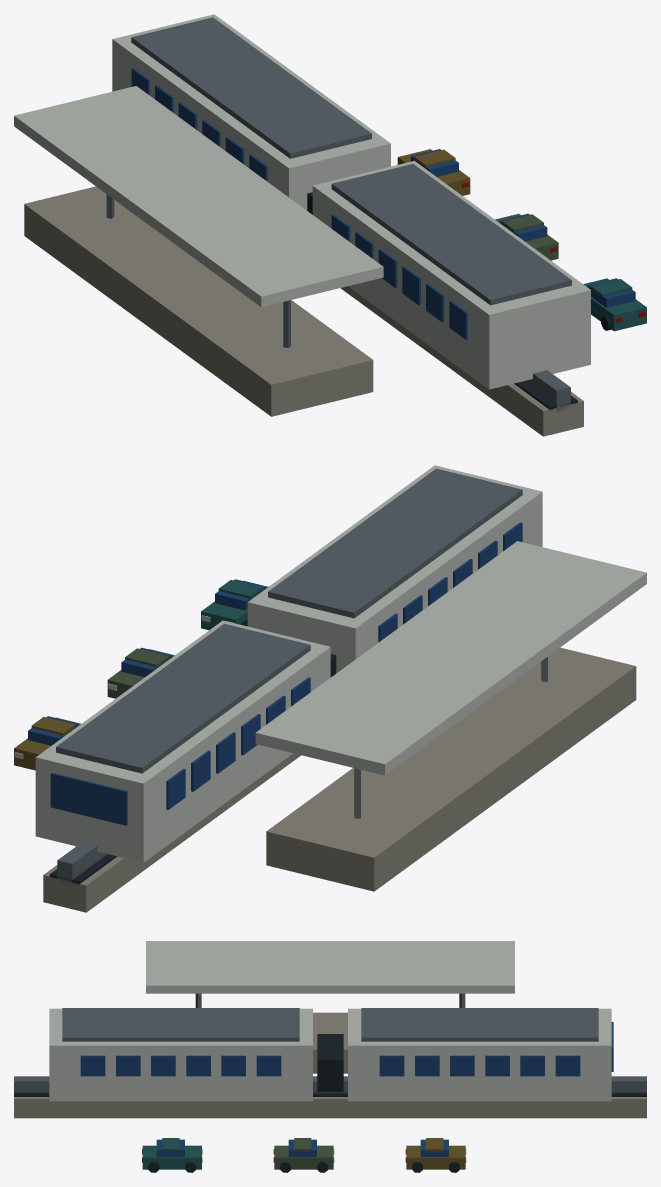
Rendered from maglevtrain2.glb.
3 views of the same model, one above another, from view 1: azimuth 30°, elevation 25°; view 2: azimuth 150°, elevation 25°; view 3: azimuth 270°, elevation 25° (orthographic). The views are drawn at different scales.
Parts seen in each view (by area): view 1: maglevtrain2; view 2: maglevtrain2; view 3: maglevtrain2.
Part boxes in pixels (left/top/right/bottom): maglevtrain2: left=14, top=14, right=646, bottom=436; maglevtrain2: left=14, top=465, right=646, bottom=912; maglevtrain2: left=14, top=941, right=646, bottom=1172.
Bounding box in the file's own units: 37.8 × 11.5 × 72.
